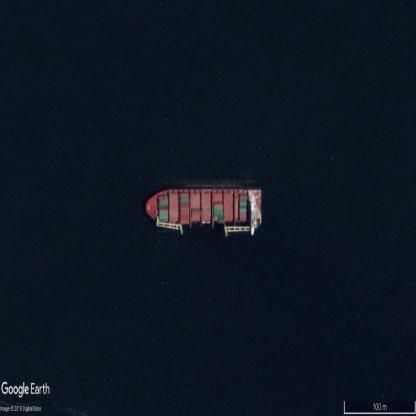ship: (145, 188, 261, 229)
